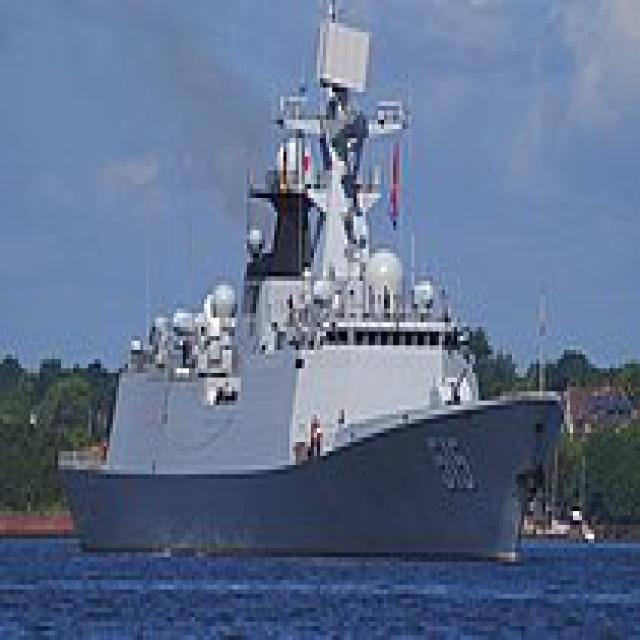Warship: (52, 0, 564, 562)
